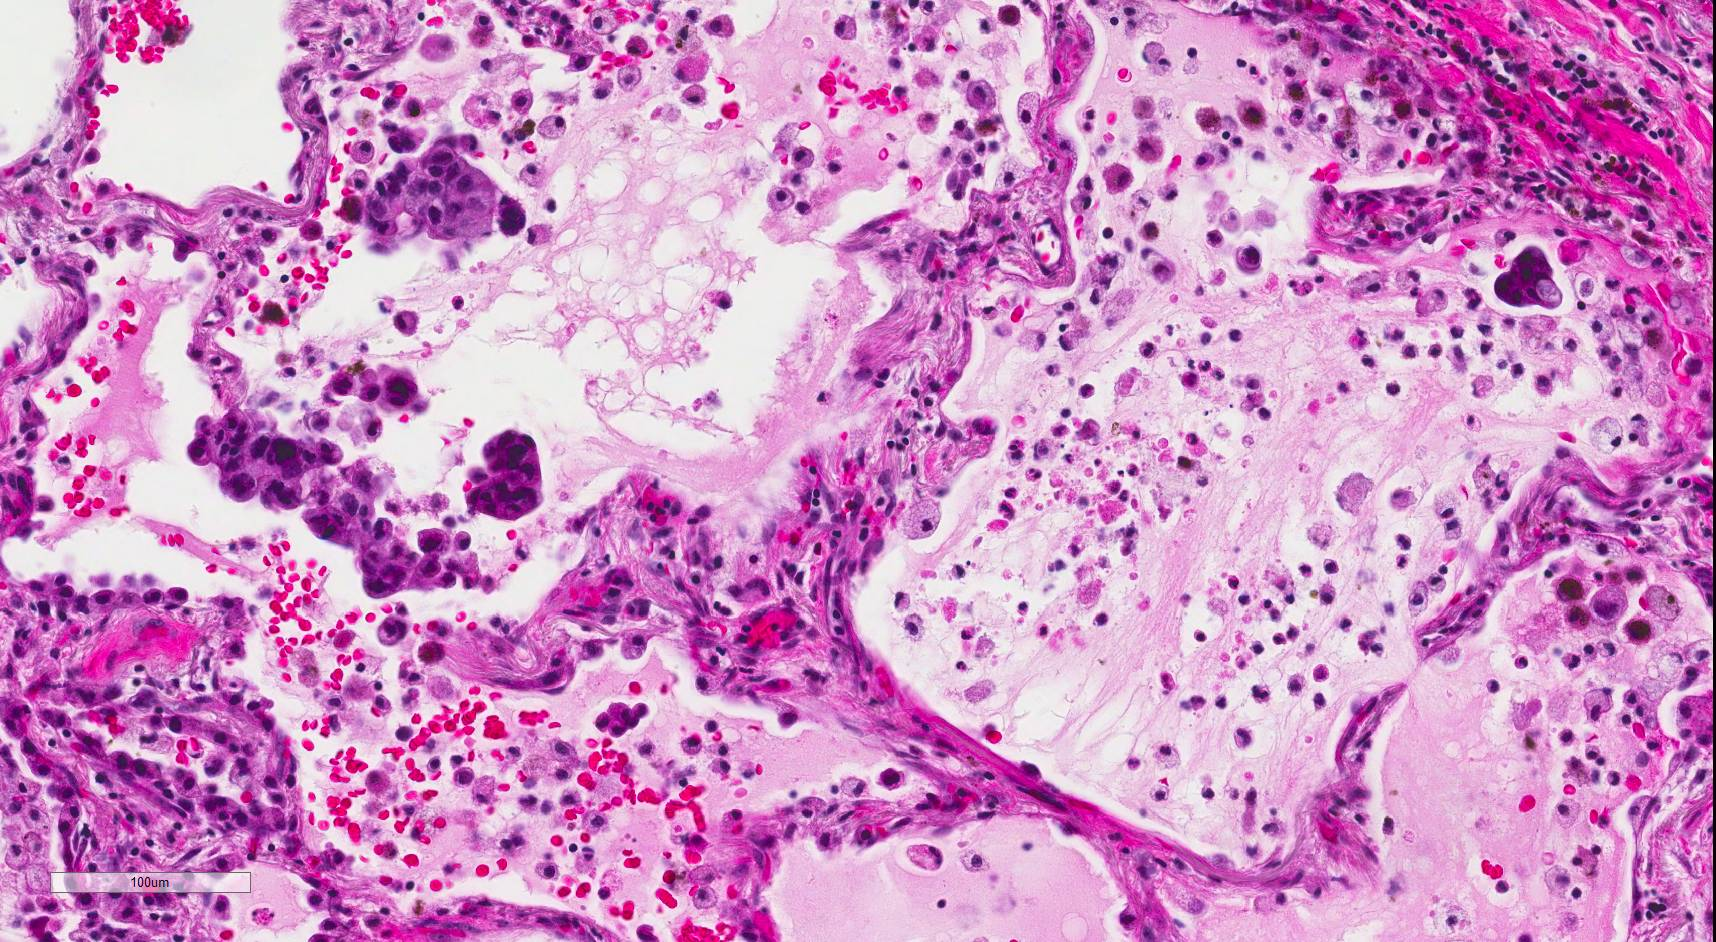stas: (182, 406, 463, 600), (358, 140, 500, 250), (463, 427, 552, 521), (1491, 243, 1564, 315)
